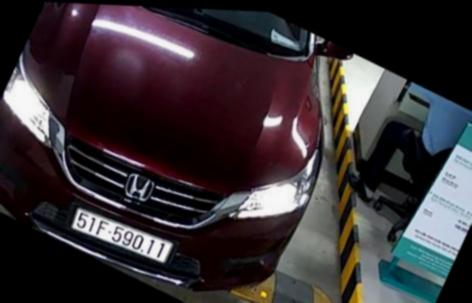License_Plate: (74, 204, 176, 270)
